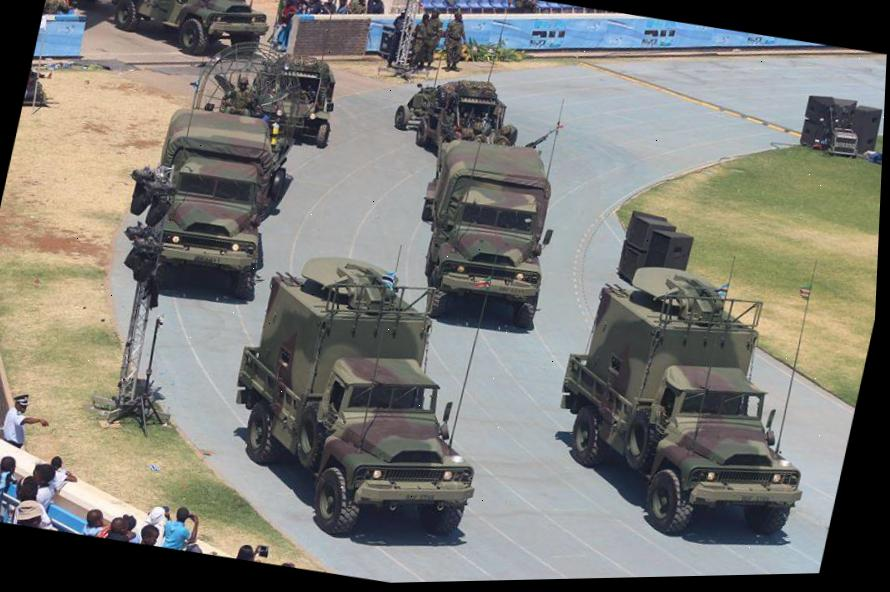truck: (203, 239, 522, 565), (529, 251, 850, 561), (397, 127, 574, 336), (135, 98, 298, 273), (89, 0, 289, 69)
